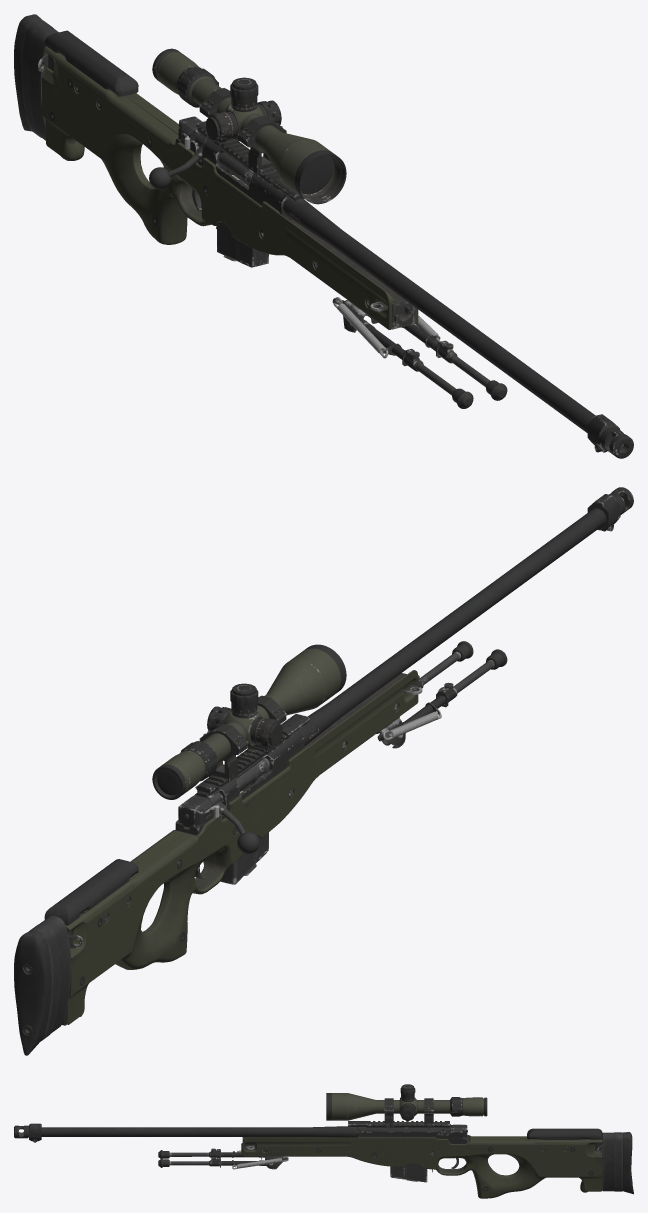
File: awp.glb
3 renders of one model, top to bottom at view 1: azimuth 30°, elevation 25°; view 2: azimuth 150°, elevation 25°; view 3: azimuth 270°, elevation 25°, orthographic. The views are drawn at different scales.
Parts seen in each view (by area): view 1: AWP_CS2; view 2: AWP_CS2; view 3: AWP_CS2.
Boxes of the visible parts, x1,y1,x2,y2 form: AWP_CS2: (14, 14, 633, 458); AWP_CS2: (14, 487, 633, 1055); AWP_CS2: (14, 1084, 633, 1198).
Size of the model in its own units: 0.113 by 0.2666 by 1.36.
Materials: 1 (1 with a texture image).
